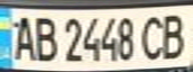2: (60, 14, 84, 63)
4: (81, 14, 103, 63), (100, 12, 121, 62)
8: (115, 12, 139, 62)
A: (6, 11, 39, 62)
B: (157, 10, 190, 61), (30, 12, 60, 63)
C: (136, 11, 169, 61)
